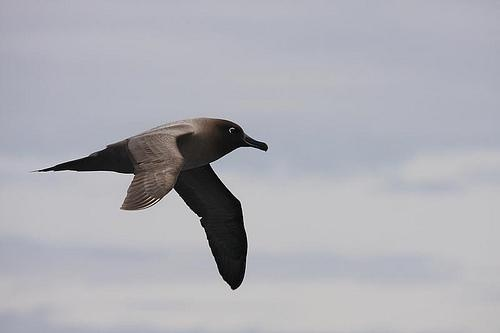bird: (30, 116, 270, 290)
